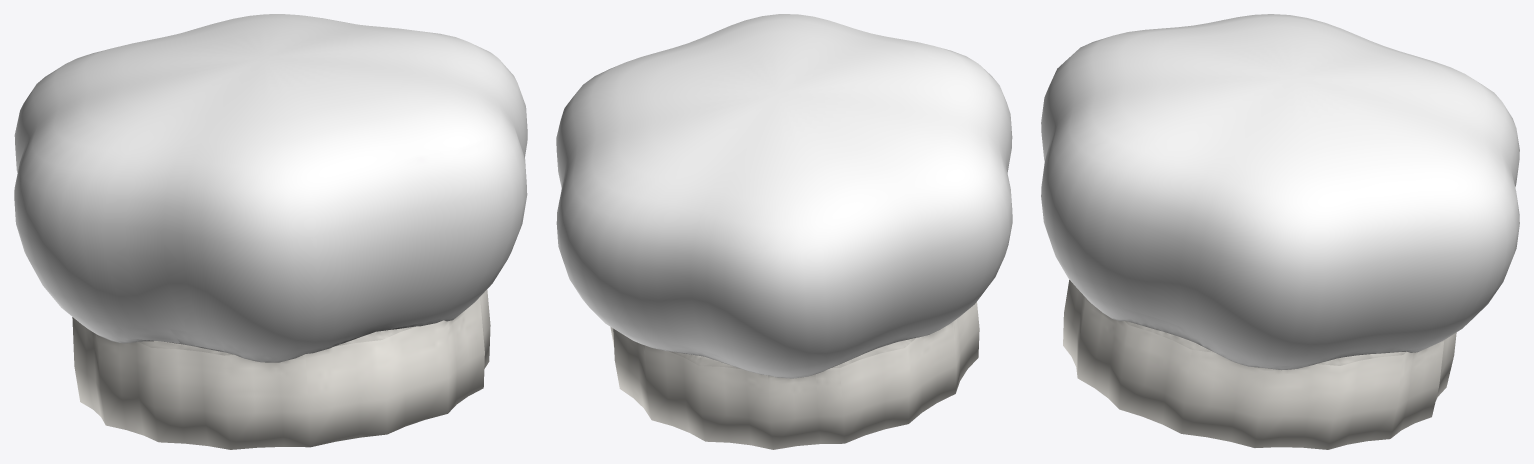
The model's file is hat_chef.glb.
The picture shows the model from 3 angles, left to right: view 1: azimuth 30°, elevation 25°; view 2: azimuth 150°, elevation 25°; view 3: azimuth 270°, elevation 25°; orthographic projection. The views are drawn at different scales.
Visible parts, largest first — view 1: hat_chef; view 2: hat_chef; view 3: hat_chef.
Part boxes in pixels (left/top/right/bottom): hat_chef: left=14, top=14, right=527, bottom=449; hat_chef: left=556, top=14, right=1012, bottom=449; hat_chef: left=1041, top=14, right=1519, bottom=449.
Size of the model in its own units: 0.8074 by 0.5342 by 0.7367.
2 materials, 2 textured.
